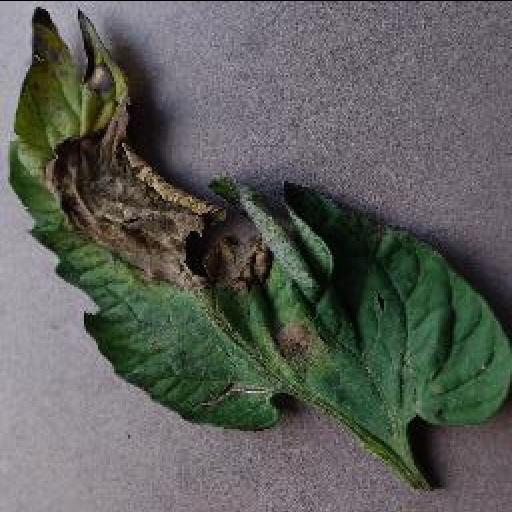disease_tomato: (6, 2, 512, 430)
